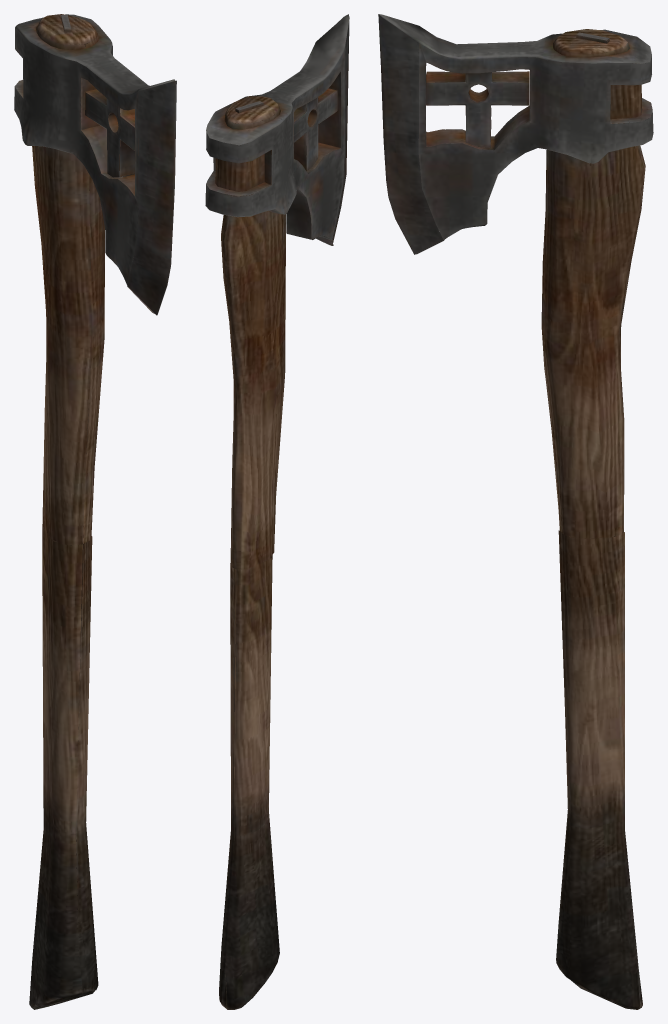
The model's file is axe_old.glb.
3 views of the same model, side by side, from view 1: azimuth 30°, elevation 25°; view 2: azimuth 150°, elevation 25°; view 3: azimuth 270°, elevation 25° (orthographic). The views are drawn at different scales.
Visible parts, largest first — view 1: wooden_axe_03; view 2: wooden_axe_03; view 3: wooden_axe_03.
Part boxes in pixels (bbox=[...]): wooden_axe_03: bbox=[14, 14, 176, 1009]; wooden_axe_03: bbox=[205, 14, 349, 1009]; wooden_axe_03: bbox=[378, 14, 653, 1009].
Size of the model in its own units: 0.0505 by 0.6318 by 0.1585.
1 material, 1 textured.
